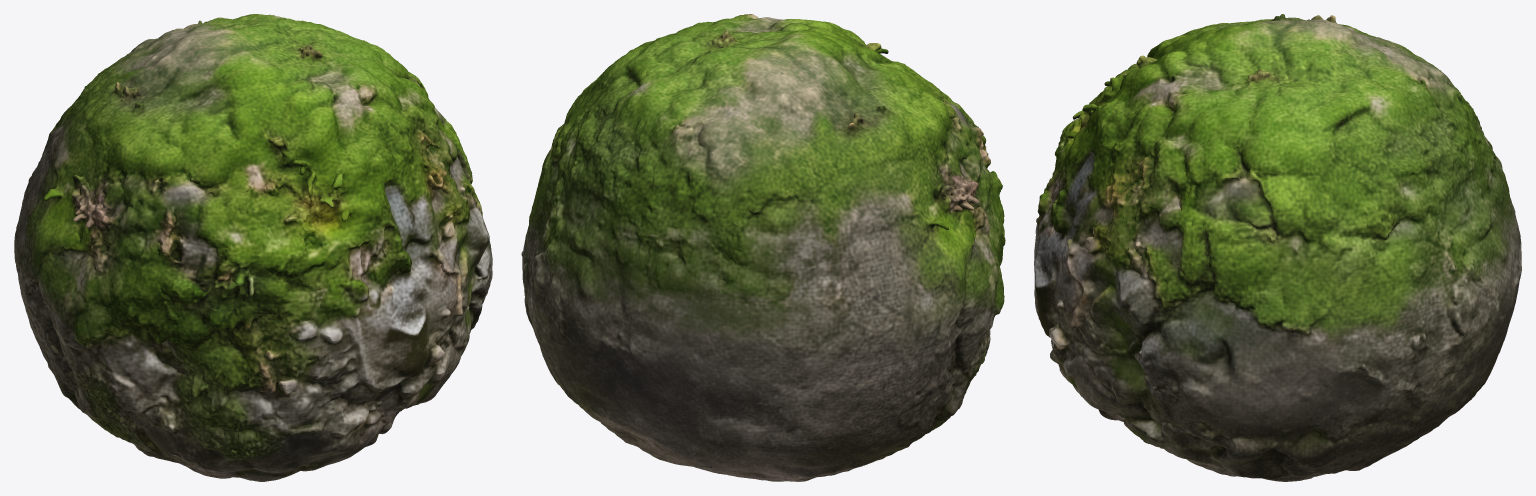
The model's file is task-4897438.glb.
The picture shows the model from 3 angles, left to right: view 1: azimuth 30°, elevation 25°; view 2: azimuth 150°, elevation 25°; view 3: azimuth 270°, elevation 25°; orthographic projection. The views are drawn at different scales.
Visible parts, largest first — view 1: world; view 2: world; view 3: world.
Boxes of the visible parts, bbox=[...] form: world: bbox=[14, 14, 492, 481]; world: bbox=[521, 14, 1005, 481]; world: bbox=[1034, 14, 1521, 481].
Bounding box in the file's own units: 0.45 × 0.4139 × 0.4476.
Materials: 1 (1 with a texture image).
